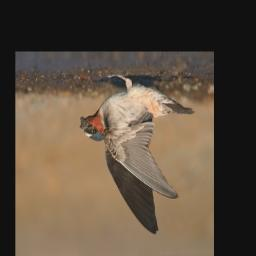Swallow: (79, 71, 197, 237)
